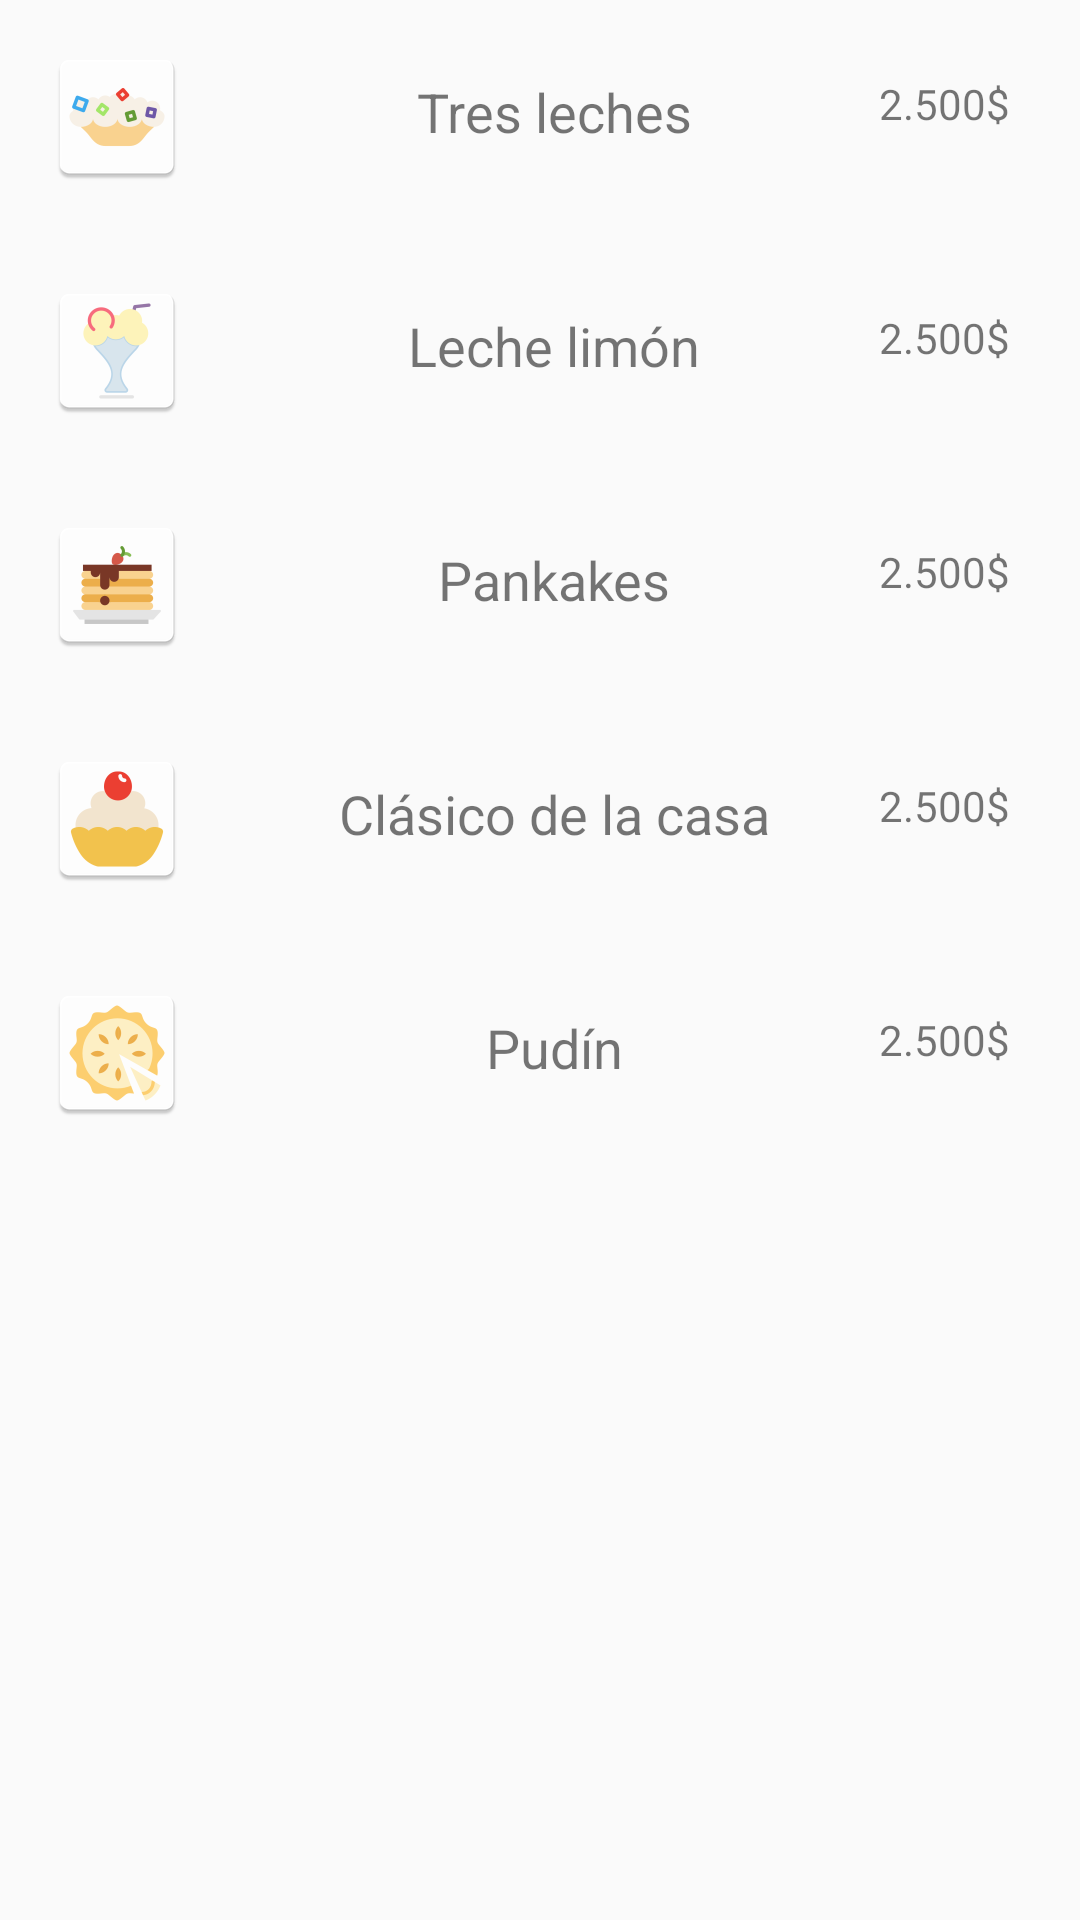

Icon bounding boxes for this 1080px x 1920px phone screenshot, format (x1,y1,x2,y2):
postre: (60,66,175,178), (60,300,175,412), (60,534,175,646), (60,768,175,880), (60,1002,175,1114)
